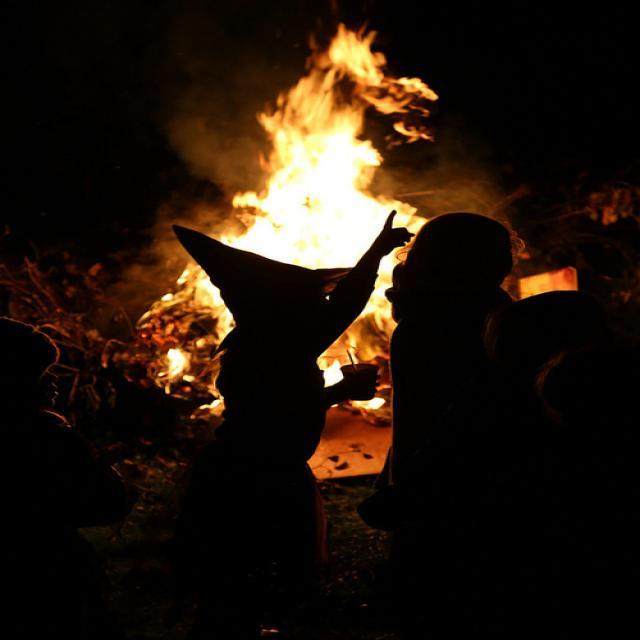Fire: (211, 16, 454, 218)
